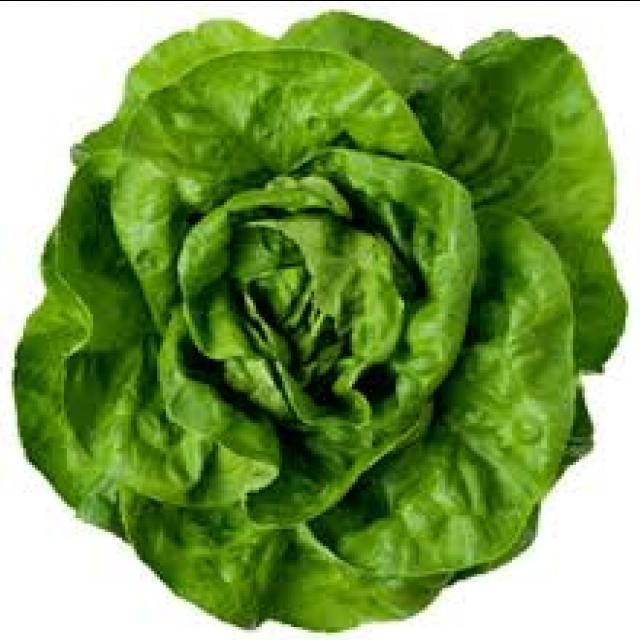Healthy: (100, 52, 544, 566)
